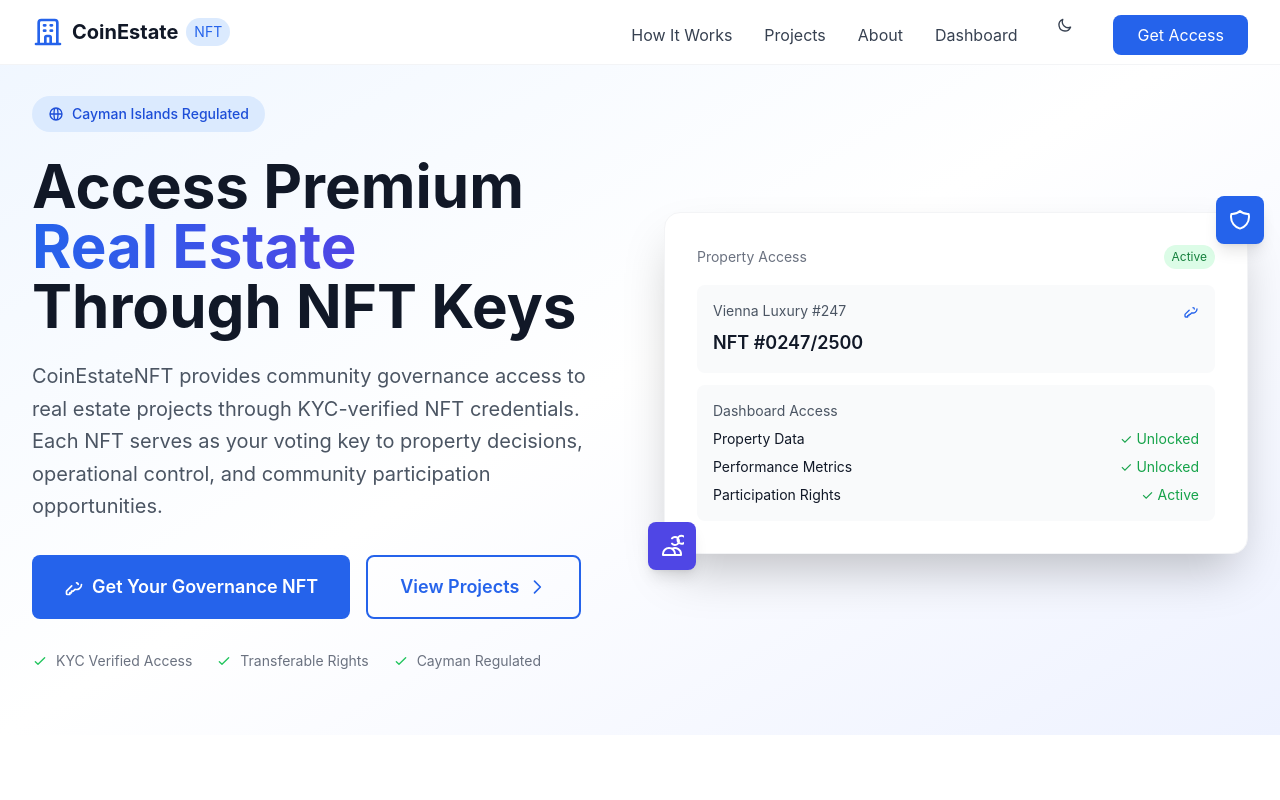
Scenario: App › wallet connection flow
This screenshot has width=1280, height=800.
// Navigate to dashboard
Click the button "Get Access". click: (1181, 35)
box: [1114,15,1248,55]
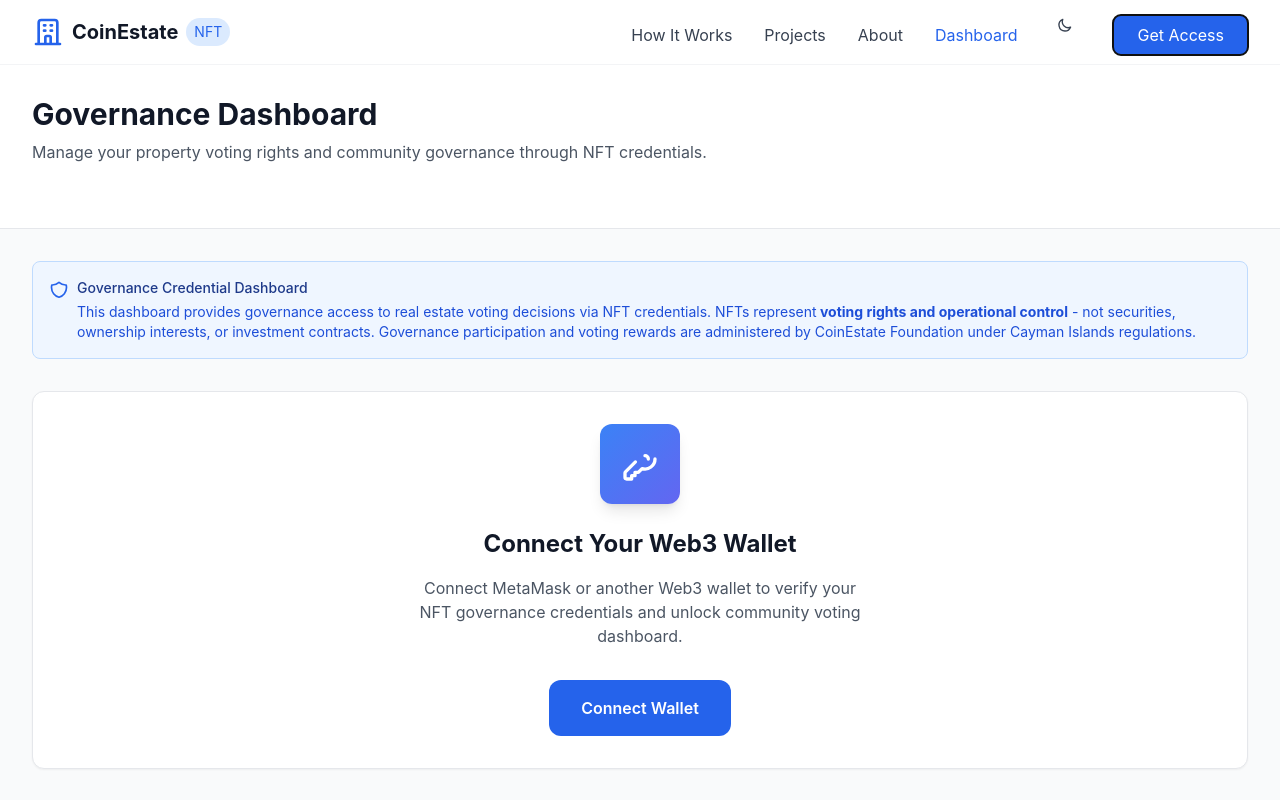
Result: the button "Connect Wallet" is shown at [549,680,731,736]
